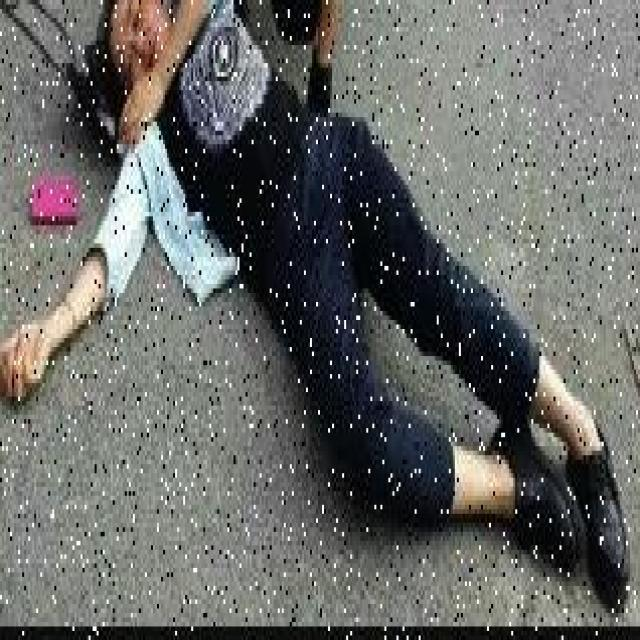fall: (20, 0, 630, 608)
